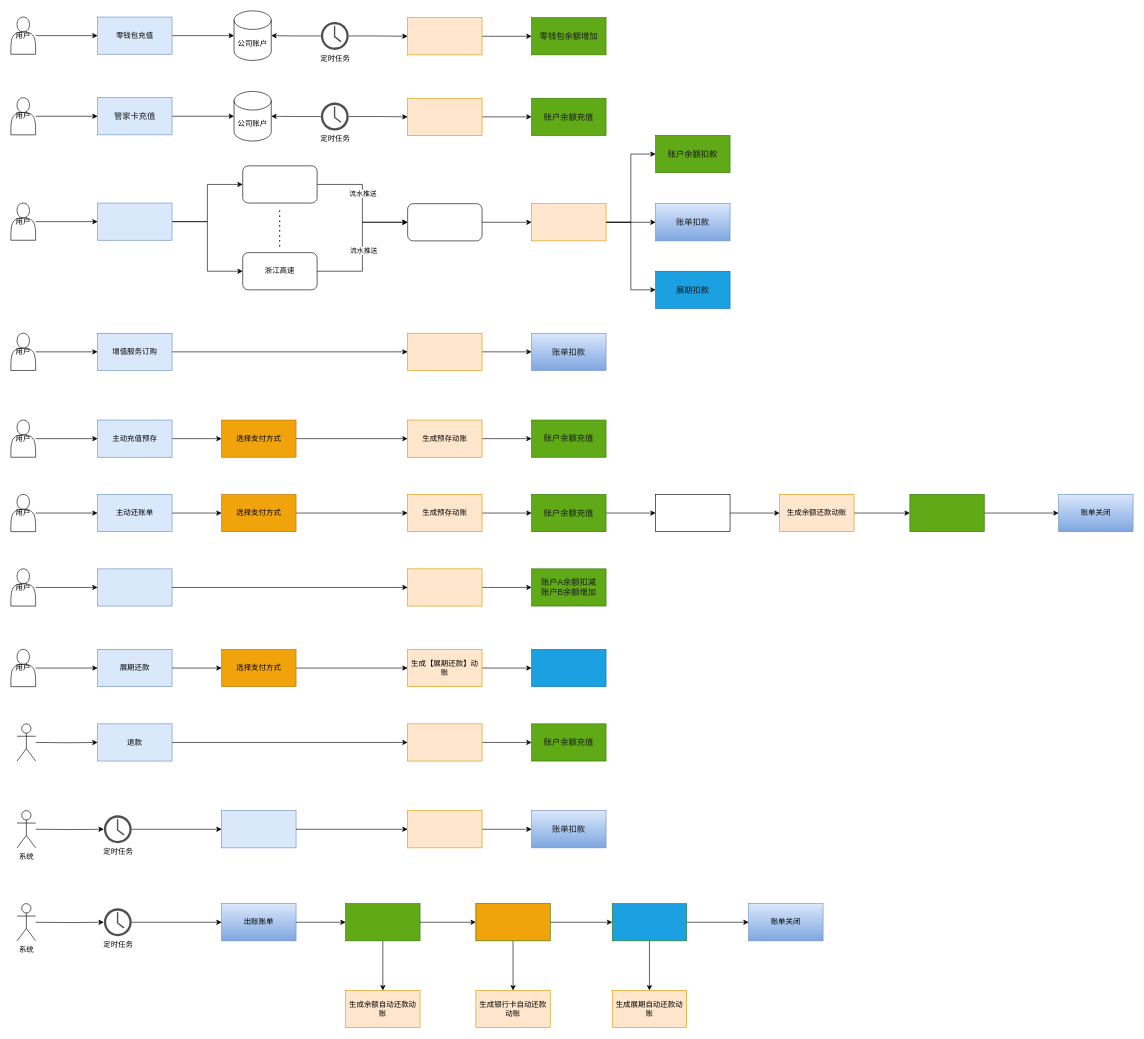
Some shapes in this 1144 by 1039 pixel diagram are drawn without their labels. The centre of each missing label's shape, as x and y in pixels:
代为充值: the point at 134,587
展期代扣: the point at 649,922
展期账单关闭: the point at 568,668
年费/月费: the point at 258,829
慧联运系统: the point at 444,222
生产相应增值服务动账: the point at 444,351
生成【零钱包充值】动账: the point at 444,36
生成代扣代付动账: the point at 444,587
生成消费动账: the point at 568,222
生成相应动账: the point at 444,829
生成管家卡转账预存动账: the point at 444,116
生成退款动账: the point at 444,742
系统用户: the point at 26,742
联网: the point at 279,184
触发余额还款: the point at 692,513
账户余额代扣: the point at 382,922
账户余额扣减: the point at 946,513
银行卡代扣: the point at 512,922
高速通行: the point at 134,221
